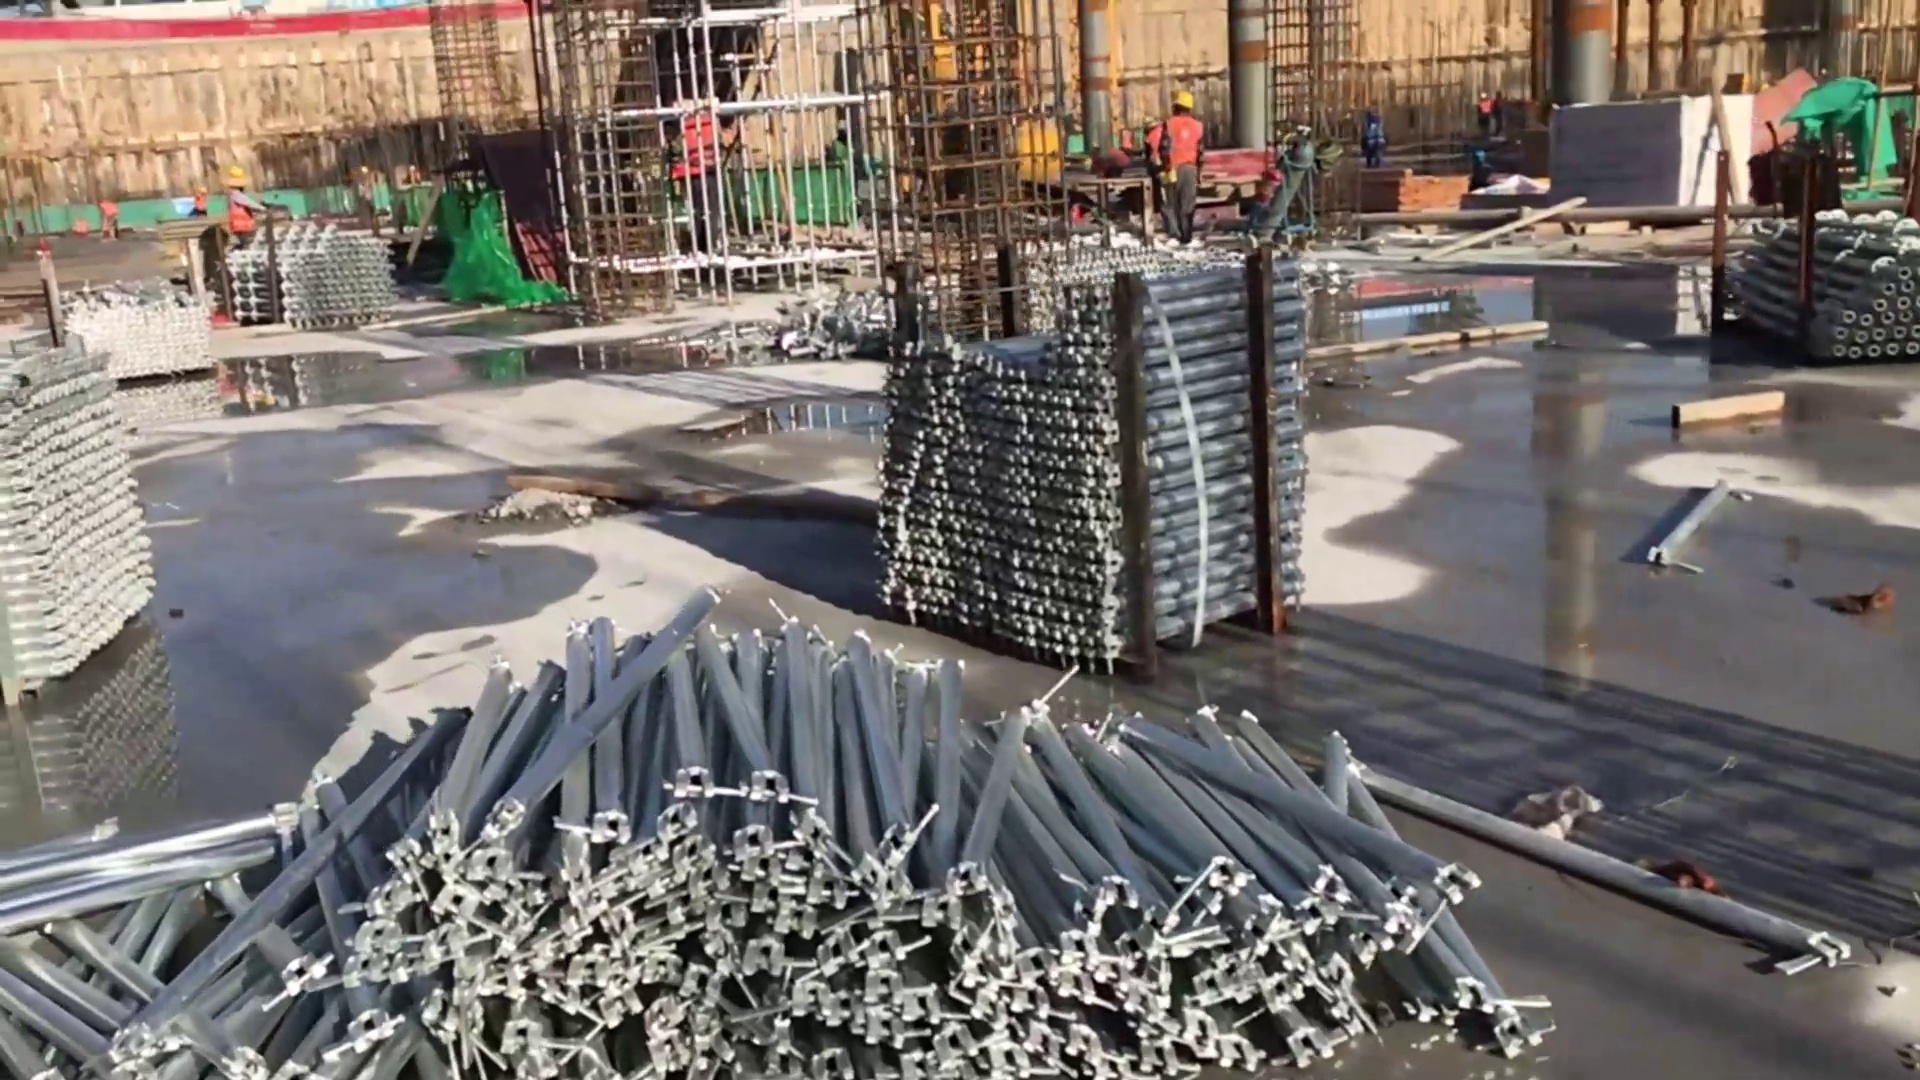person: (1170, 91, 1209, 253), (216, 166, 267, 262), (1138, 111, 1175, 183), (1354, 106, 1388, 166), (186, 183, 212, 222)
scaffold: (1, 600, 1583, 1079), (875, 261, 1301, 658), (1, 346, 155, 703), (278, 235, 395, 331)
